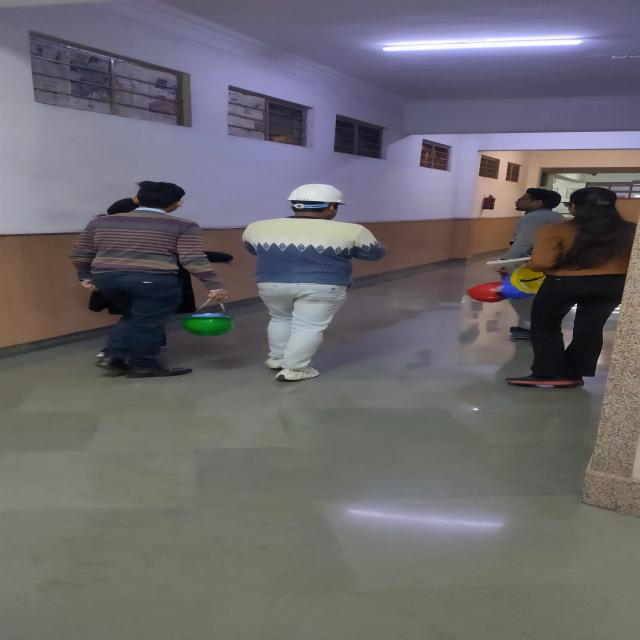no jacket: (242, 184, 385, 382)
unsafe: (69, 180, 227, 378), (505, 187, 628, 385), (498, 188, 567, 271)
